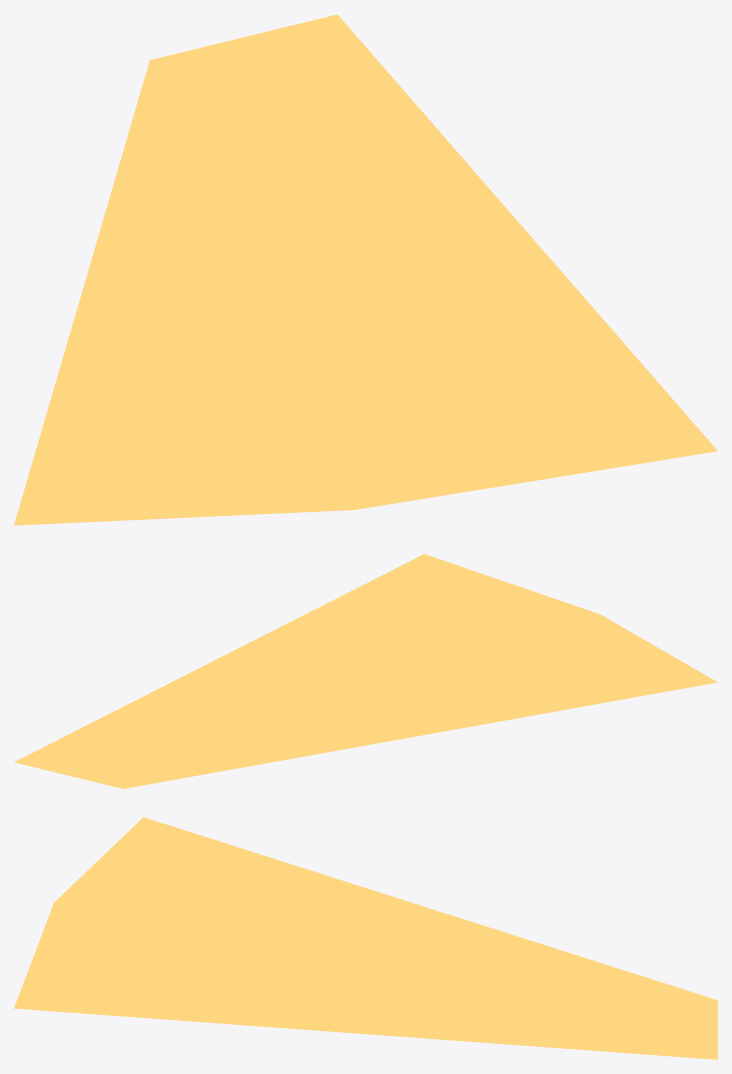
Rendered from agora_area_max.glb.
3 renders of one model, top to bottom at view 1: azimuth 30°, elevation 25°; view 2: azimuth 150°, elevation 25°; view 3: azimuth 270°, elevation 25°, orthographic. The views are drawn at different scales.
Parts seen in each view (by area): view 1: Mesh_0.002; view 2: Mesh_0.002; view 3: Mesh_0.002.
Part boxes in pixels (x1,y1,x2,y2): Mesh_0.002: [14, 14, 717, 525]; Mesh_0.002: [14, 554, 717, 788]; Mesh_0.002: [14, 817, 717, 1059].
Size of the model in its own units: 0.4739 by 8.3e-05 by 0.5811.
